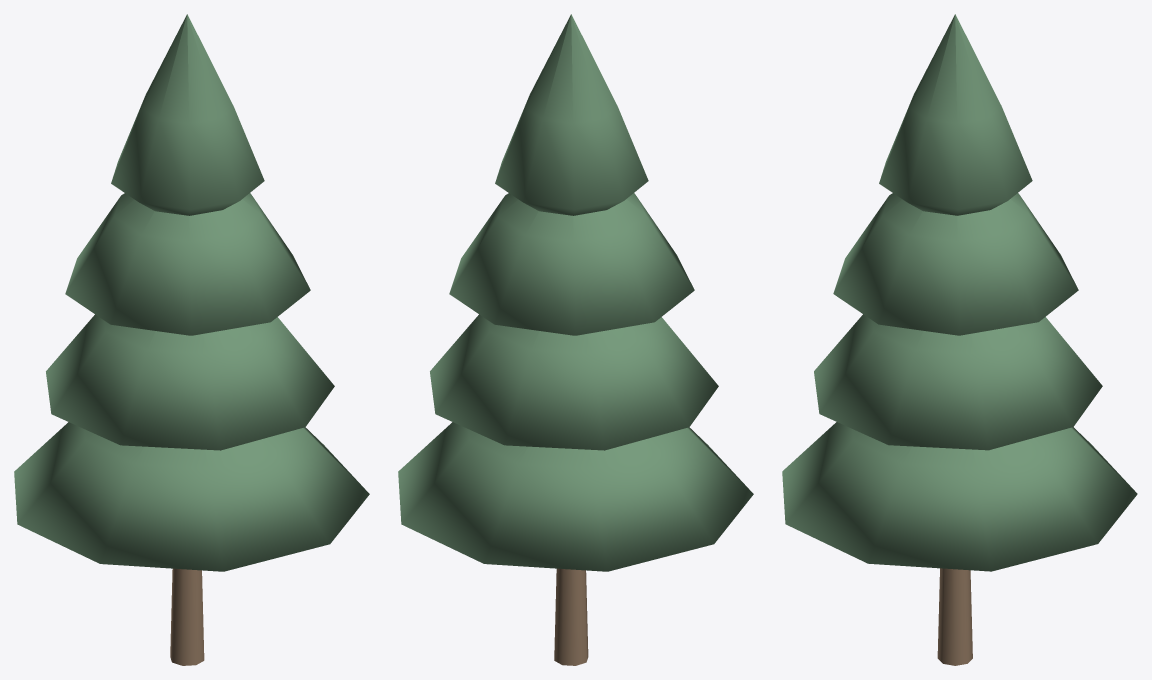
File: Pine1.glb
3 renders of one model, left to right at view 1: azimuth 30°, elevation 25°; view 2: azimuth 150°, elevation 25°; view 3: azimuth 270°, elevation 25°, orthographic.
Visible parts, largest first — view 1: Pine1; view 2: Pine1; view 3: Pine1.
Boxes of the visible parts, x1=… form: Pine1: x1=14, y1=14, x2=369, y2=665; Pine1: x1=398, y1=14, x2=753, y2=665; Pine1: x1=782, y1=14, x2=1137, y2=665.
Bounding box in the file's own units: 4.07 × 8.05 × 4.03.
